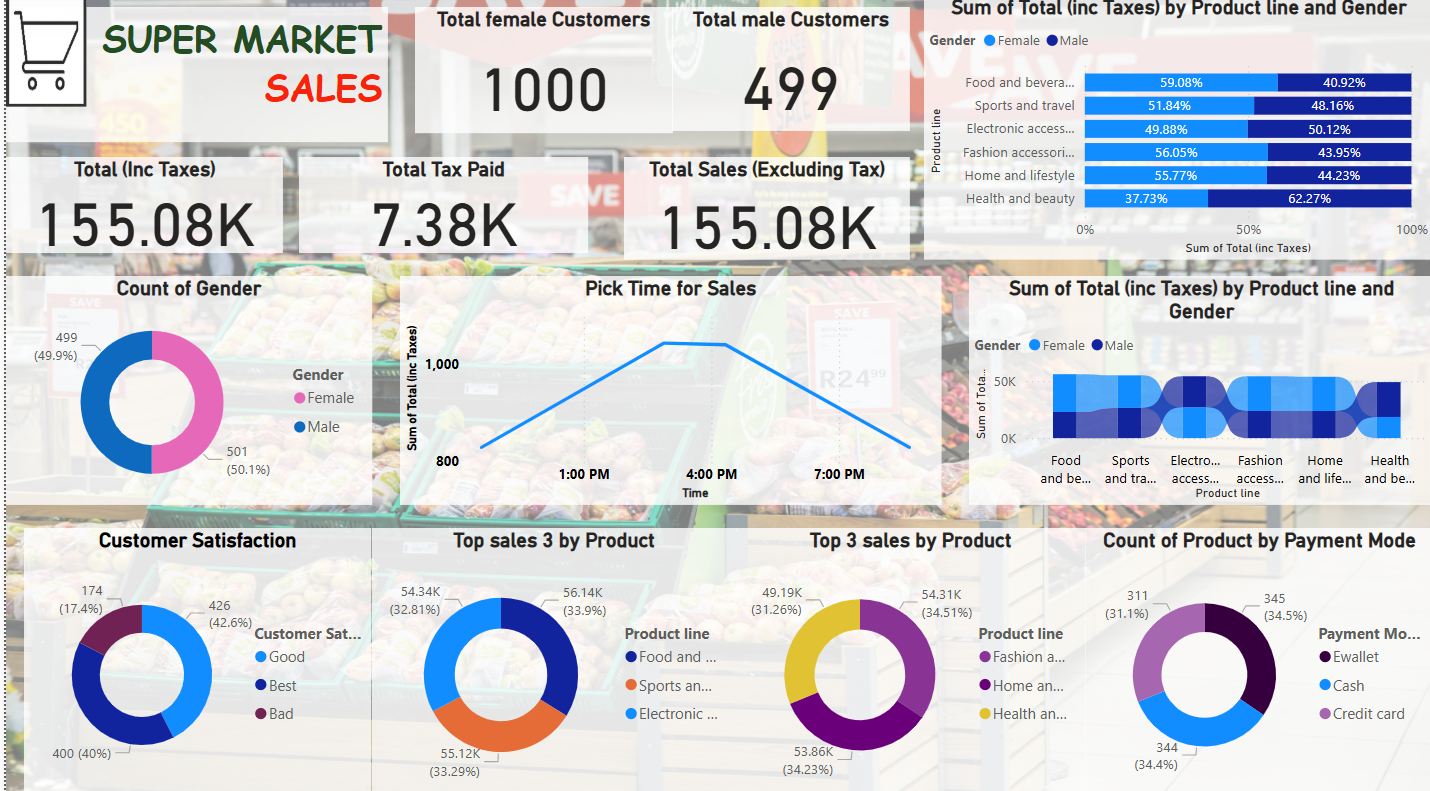

What the dashboard file says about the page in this screenshot:
{"tool":"powerbi","page":{"name":"DASHBOARD","canvas":[1280,720],"ordinal":3},"visuals":[{"type":"ribbonChart","fields":{"Category":["supermarket_sales.Product line"],"Y":["Sum(supermarket_sales.Total (inc Taxes))"],"Series":["supermarket_sales.Gender"]},"box":[862.1,251.3,416.7,205.2],"z":0},{"type":"hundredPercentStackedBarChart","fields":{"Category":["supermarket_sales.Product line"],"Y":["Sum(supermarket_sales.Total (inc Taxes))"],"Series":["supermarket_sales.Gender"]},"box":[822.3,0,456.5,237],"z":1000},{"type":"donutChart","title":"Count of Product by Payment Mode","fields":{"Category":["supermarket_sales.Payment"],"Y":["CountNonNull(supermarket_sales.Product line)"]},"box":[966.6,477.5,312.9,242.1],"z":2000},{"type":"donutChart","title":"Customer Satisfaction ","fields":{"Category":["supermarket_sales.Customer Satisfaction"],"Y":["CountNonNull(supermarket_sales.Customer Satisfaction)"]},"box":[16.5,477.5,311.2,242.1],"z":3000},{"type":"donutChart","title":"Top 3 sales by Product ","fields":{"Category":["supermarket_sales.Product line"],"Y":["supermarket_sales.sales +tax"]},"box":[653.7,477.5,312.9,242.1],"z":4000},{"type":"donutChart","title":"Top sales 3 by Product ","fields":{"Category":["supermarket_sales.Product line"],"Y":["supermarket_sales.sales +tax"]},"box":[327.7,477.5,326,242.1],"z":5000},{"type":"donutChart","title":"Count of Gender","fields":{"Category":["supermarket_sales.Gender"],"Y":["CountNonNull(supermarket_sales.Gender)"]},"box":[0,251.3,327.7,205.2],"z":6000},{"type":"card","title":"Total female Customers","fields":{"Values":["CountNonNull(supermarket_sales.Gender)"]},"box":[365.8,11.1,230.6,112.9],"z":7000},{"type":"card","title":"Total male Customers","fields":{"Values":["CountNonNull(supermarket_sales.Gender)"]},"box":[596.5,11.1,213.1,111.3],"z":8000},{"type":"card","title":"Total (Inc Taxes)","fields":{"Values":["Sum(supermarket_sales.Total (inc Taxes))"]},"box":[0,144.7,248.1,85.9],"z":9000},{"type":"card","title":"Total Sales (Excluding Tax)","fields":{"Values":["supermarket_sales.sales +tax"]},"box":[553.5,144.7,256.1,92.3],"z":10000},{"type":"card","title":"Total Tax Paid","fields":{"Values":["Sum(supermarket_sales.Tax 5%)"]},"box":[262.5,144.7,259.3,85.9],"z":11000},{"type":"textbox","box":[0,11.1,342,120.9],"z":12000},{"type":"lineChart","title":"Pick Time for Sales","fields":{"Category":["supermarket_sales.Time"],"Y":["Sum(supermarket_sales.Total (inc Taxes))"]},"box":[353.1,251.3,485.1,205.2],"z":13000},{"type":"actionButton","box":[0,0,72.5,100.4],"z":14000}]}

Visuals, with their boxes in screenshot pixels (x1, y1, x2, y2), scaled from the page's 1280x720 canvas onto the 1430x791 screenshot:
ribbonChart - supermarket_sales.Product line x Sum(supermarket_sales.Total (inc Taxes)): Rect(963, 276, 1429, 502)
hundredPercentStackedBarChart - supermarket_sales.Product line x Sum(supermarket_sales.Total (inc Taxes)): Rect(919, 0, 1429, 260)
"Count of Product by Payment Mode" donutChart: Rect(1080, 525, 1429, 790)
"Customer Satisfaction " donutChart: Rect(18, 525, 366, 790)
"Top 3 sales by Product " donutChart: Rect(730, 525, 1080, 790)
"Top sales 3 by Product " donutChart: Rect(366, 525, 730, 790)
"Count of Gender" donutChart: Rect(0, 276, 366, 502)
"Total female Customers" card: Rect(409, 12, 666, 136)
"Total male Customers" card: Rect(666, 12, 904, 134)
"Total (Inc Taxes)" card: Rect(0, 159, 277, 253)
"Total Sales (Excluding Tax)" card: Rect(618, 159, 904, 260)
"Total Tax Paid" card: Rect(293, 159, 583, 253)
textbox: Rect(0, 12, 382, 145)
"Pick Time for Sales" lineChart: Rect(394, 276, 936, 502)
actionButton: Rect(0, 0, 81, 110)
